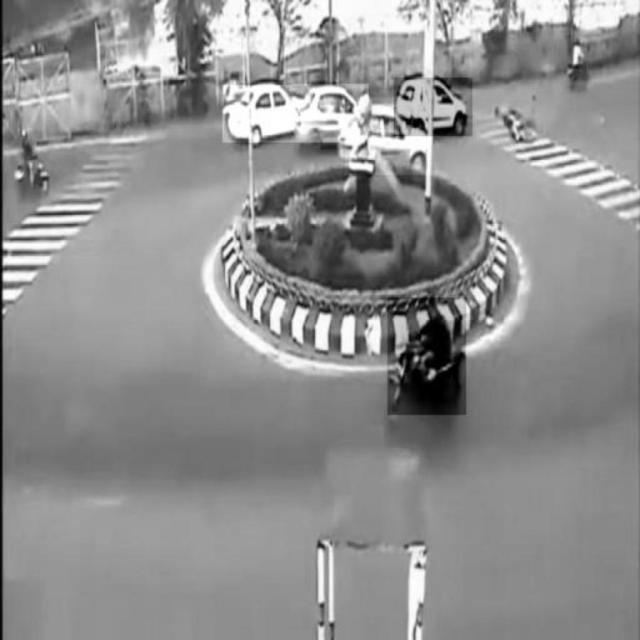vehicle: (388, 298, 466, 416), (345, 104, 433, 175), (394, 77, 472, 135), (293, 84, 369, 142), (223, 86, 299, 143), (492, 105, 542, 145)
